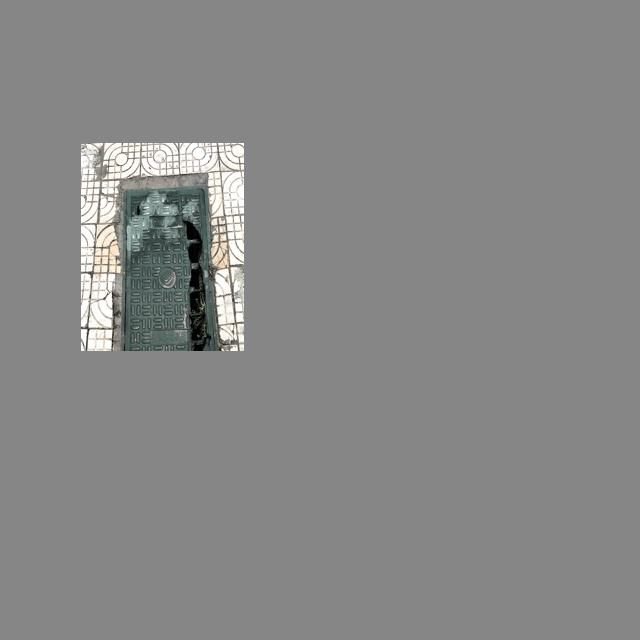broke: (121, 184, 219, 350)
